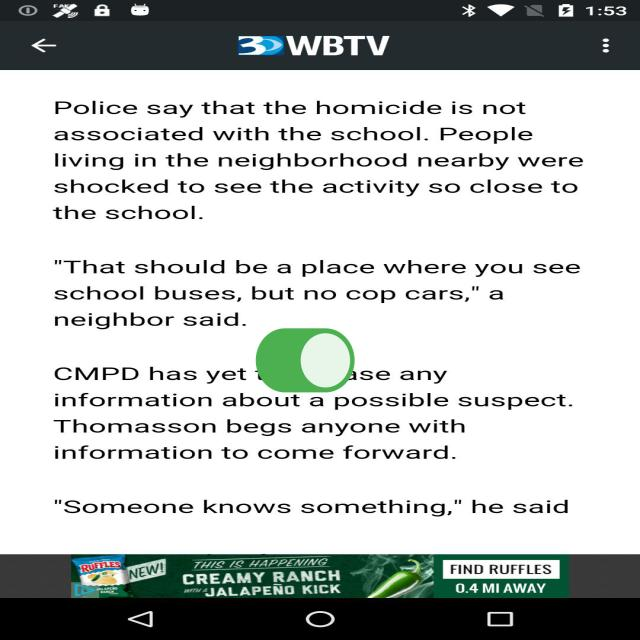social proof: (251, 304, 359, 422)
